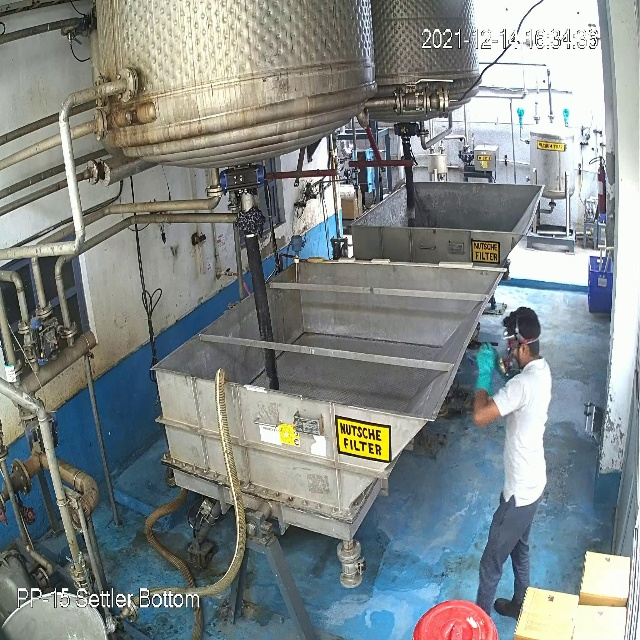Mascara: (497, 348, 530, 377)
